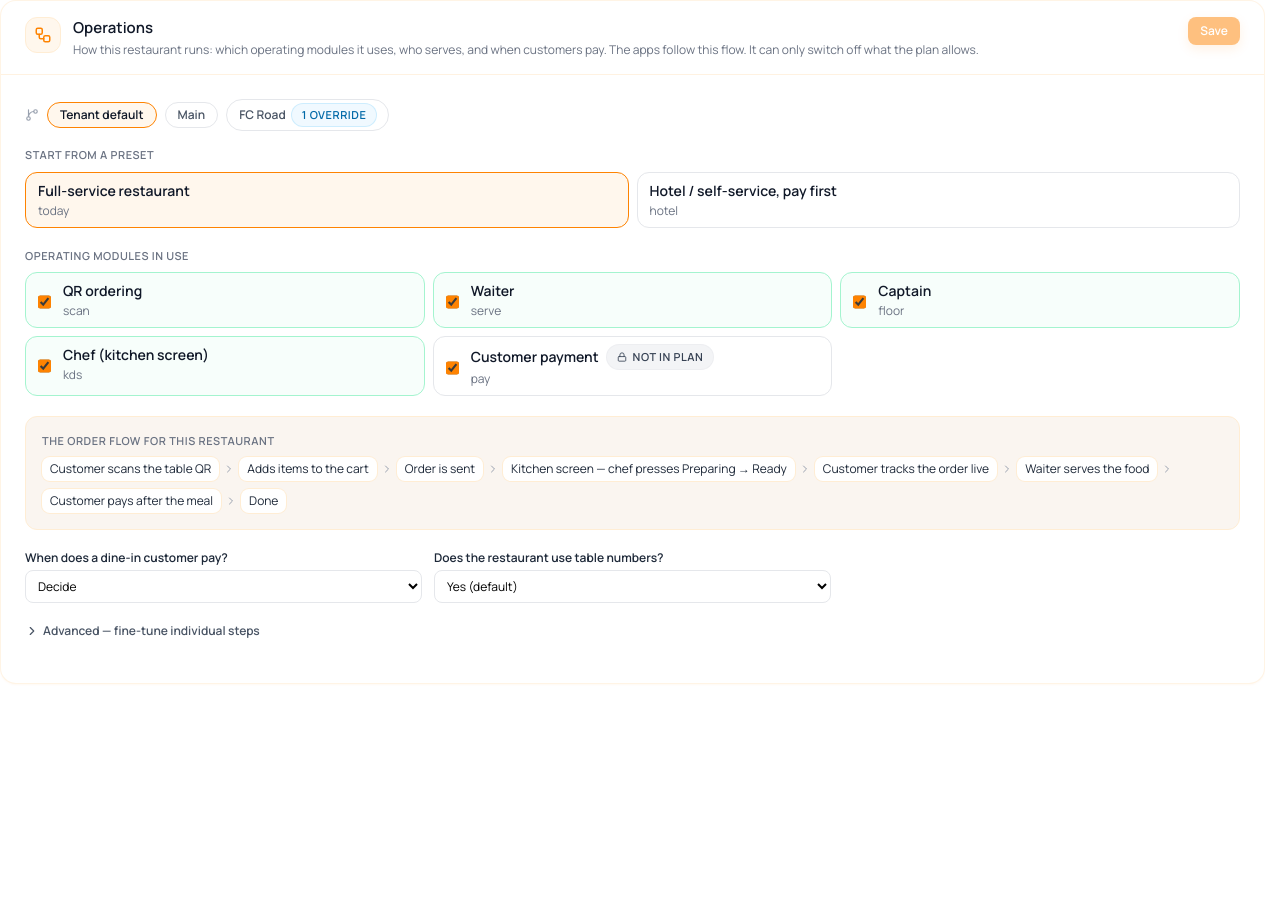
Test: OperationsPanel › per-branch overrides (design §12.1) › "Reset to tenant default" DELETEs the override after a confirm and shows the tenant profile for the branch
Expected: the element with test id "ops-modules" is shown, left=25, top=272, right=1240, bottom=396
Expected: the element with test id "ops-scope" is shown, left=25, top=98, right=389, bottom=131
Click the button "FC Road 1 override" at (308, 115), box left=226, top=98, right=389, bottom=131
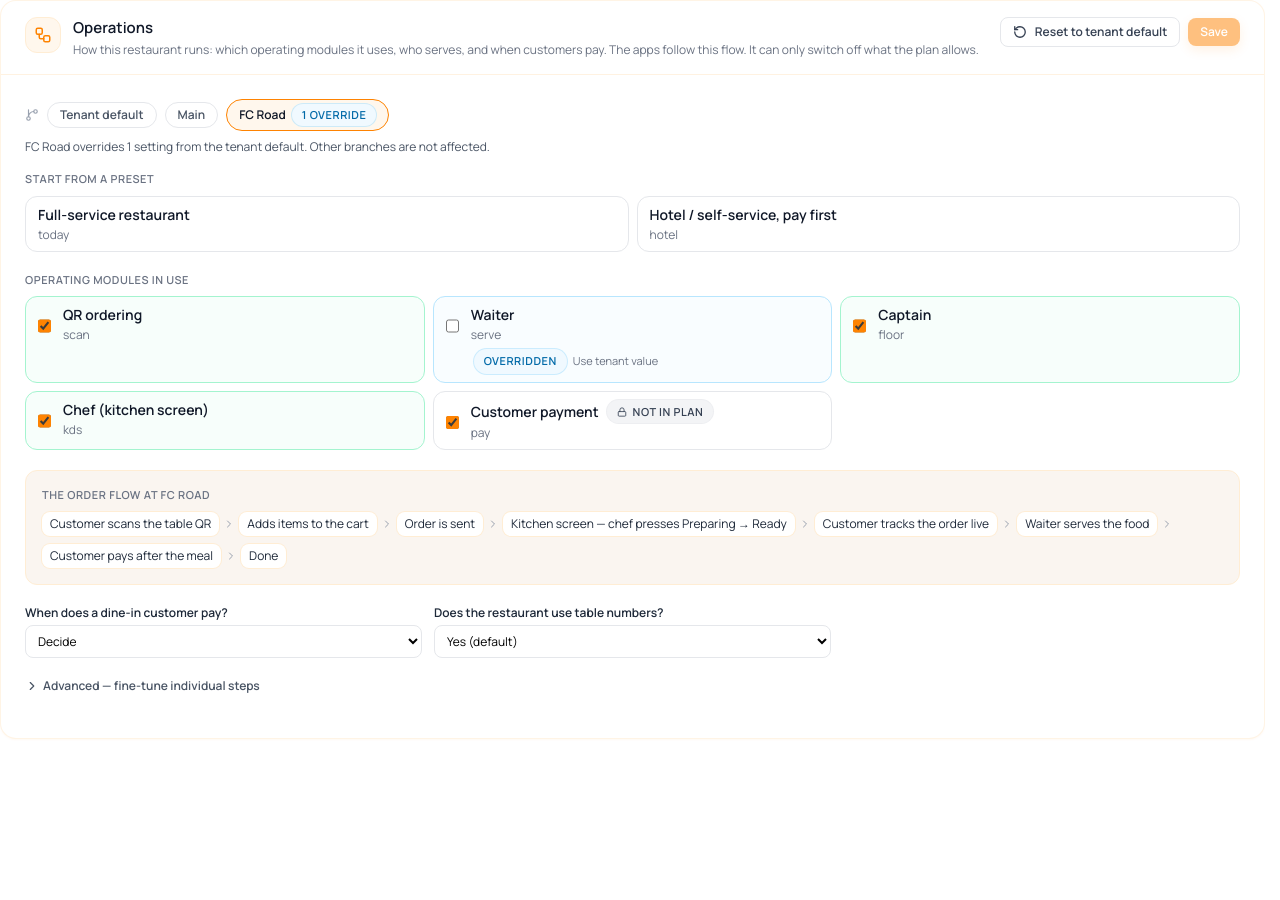
Now the text with test id "ops-branch-note" is shown, box left=25, top=138, right=490, bottom=155
Click the button "Reset to tenant default" at (1090, 32), box left=1000, top=17, right=1180, bottom=47
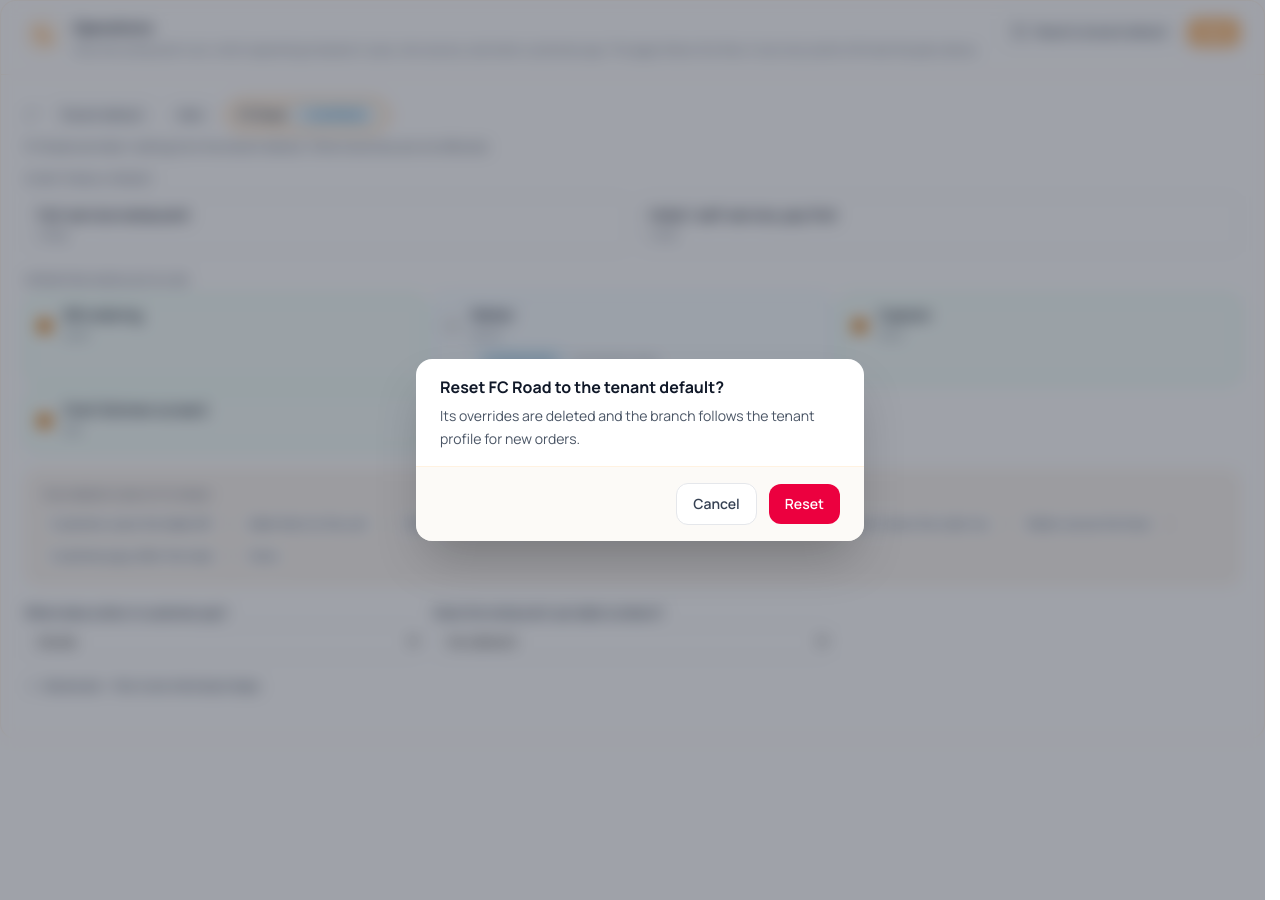
Now the dialog shows "Reset FC Road to the tenant default?", box left=440, top=376, right=724, bottom=398
Click the button "Reset" at (804, 504), box left=769, top=484, right=840, bottom=524
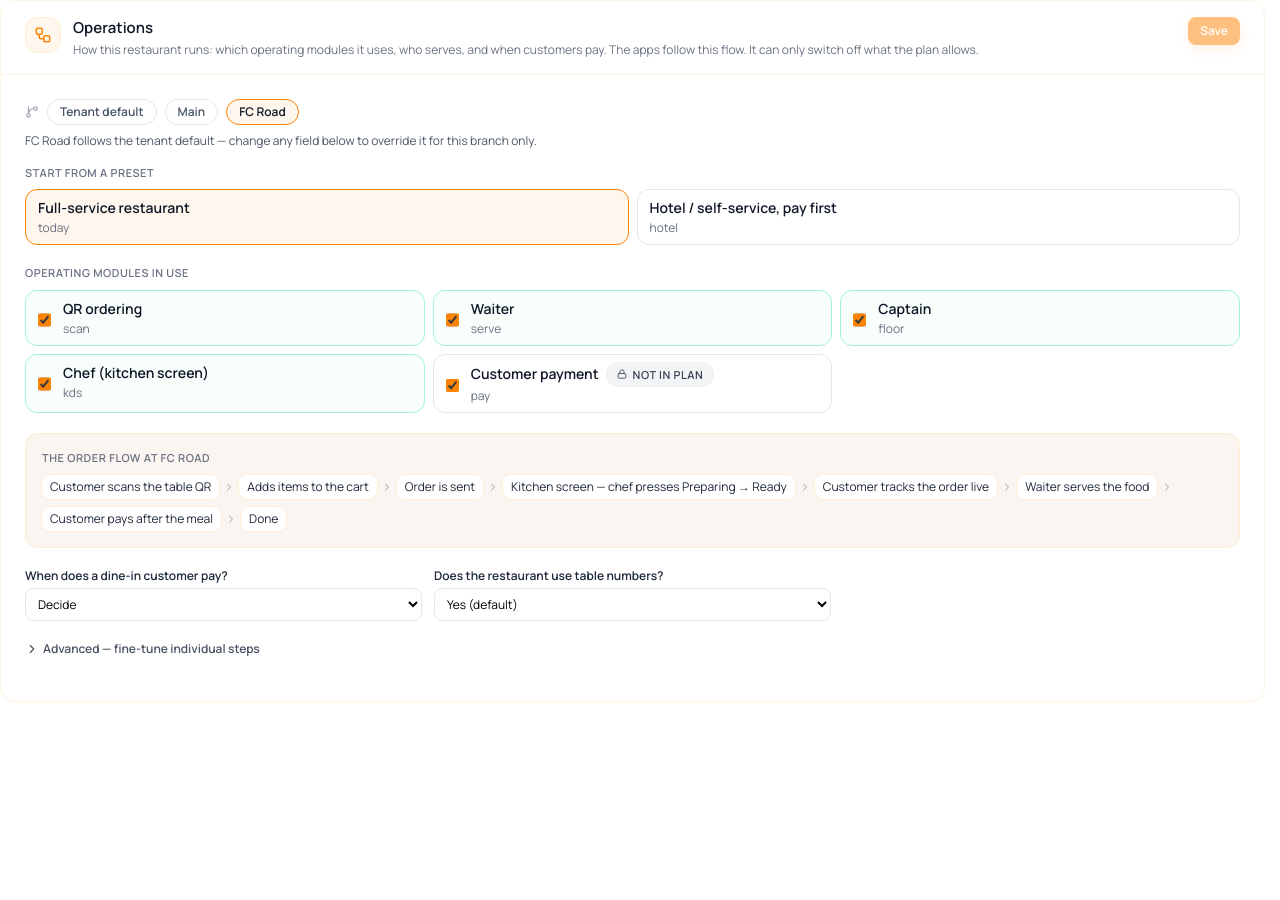
Expected: the button "FC Road" does not show "override", left=226, top=98, right=299, bottom=124
Now the checkbox labelled "Waiter" is checked, box left=446, top=302, right=459, bottom=336
Now the button "Reset to tenant default" is gone
